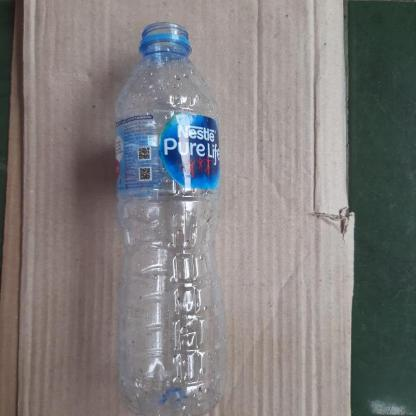Plastic Bottle: (112, 22, 222, 416)
